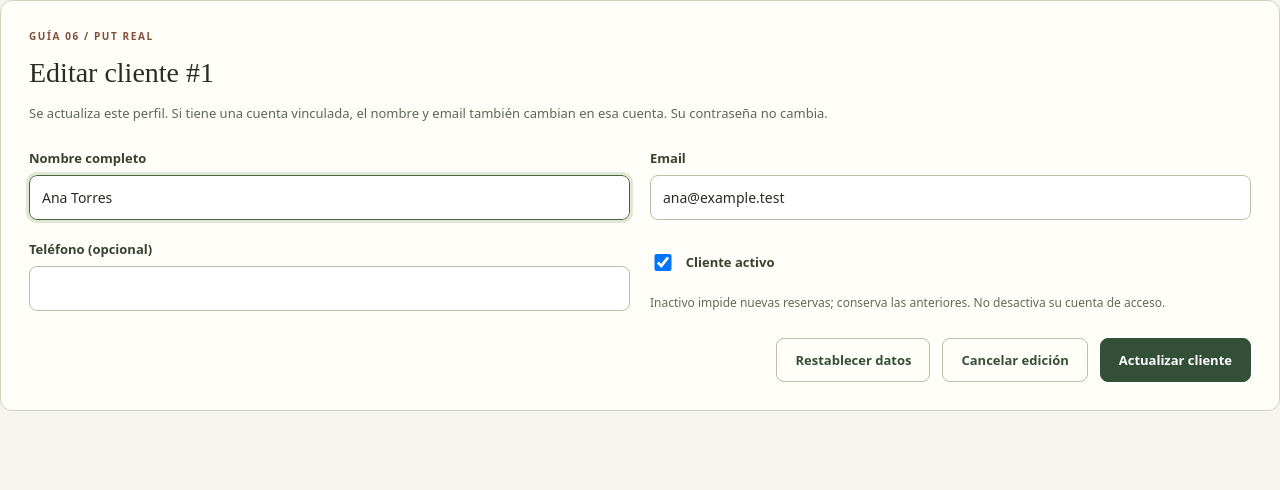
Test: un 409 mantiene el formulario y no comunica éxito
Type "77777777" into the field labelled "Teléfono (opcional)". click: (330, 289)
box: 29,266 -> 630,311
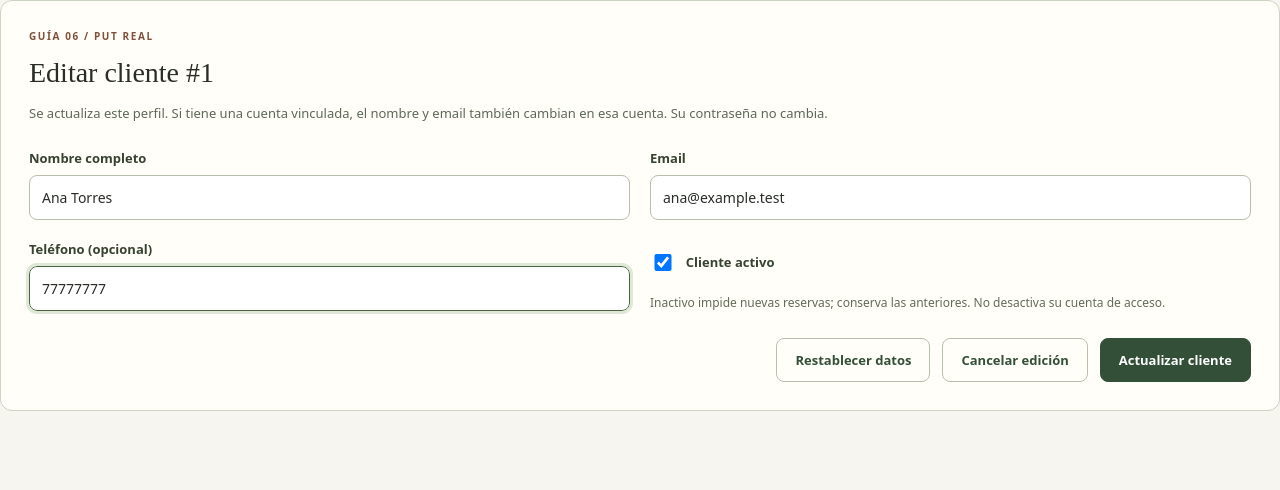
Click the button "Actualizar cliente". click: (1175, 360)
box: 1100,338 -> 1251,382
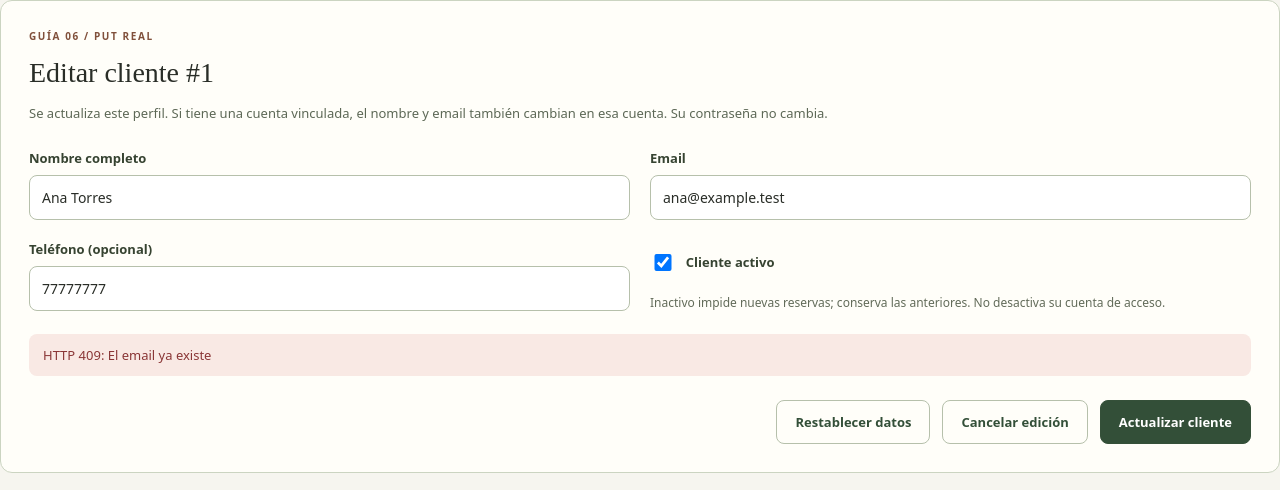
Check: the message shows "409", box 43,346 -> 212,364
